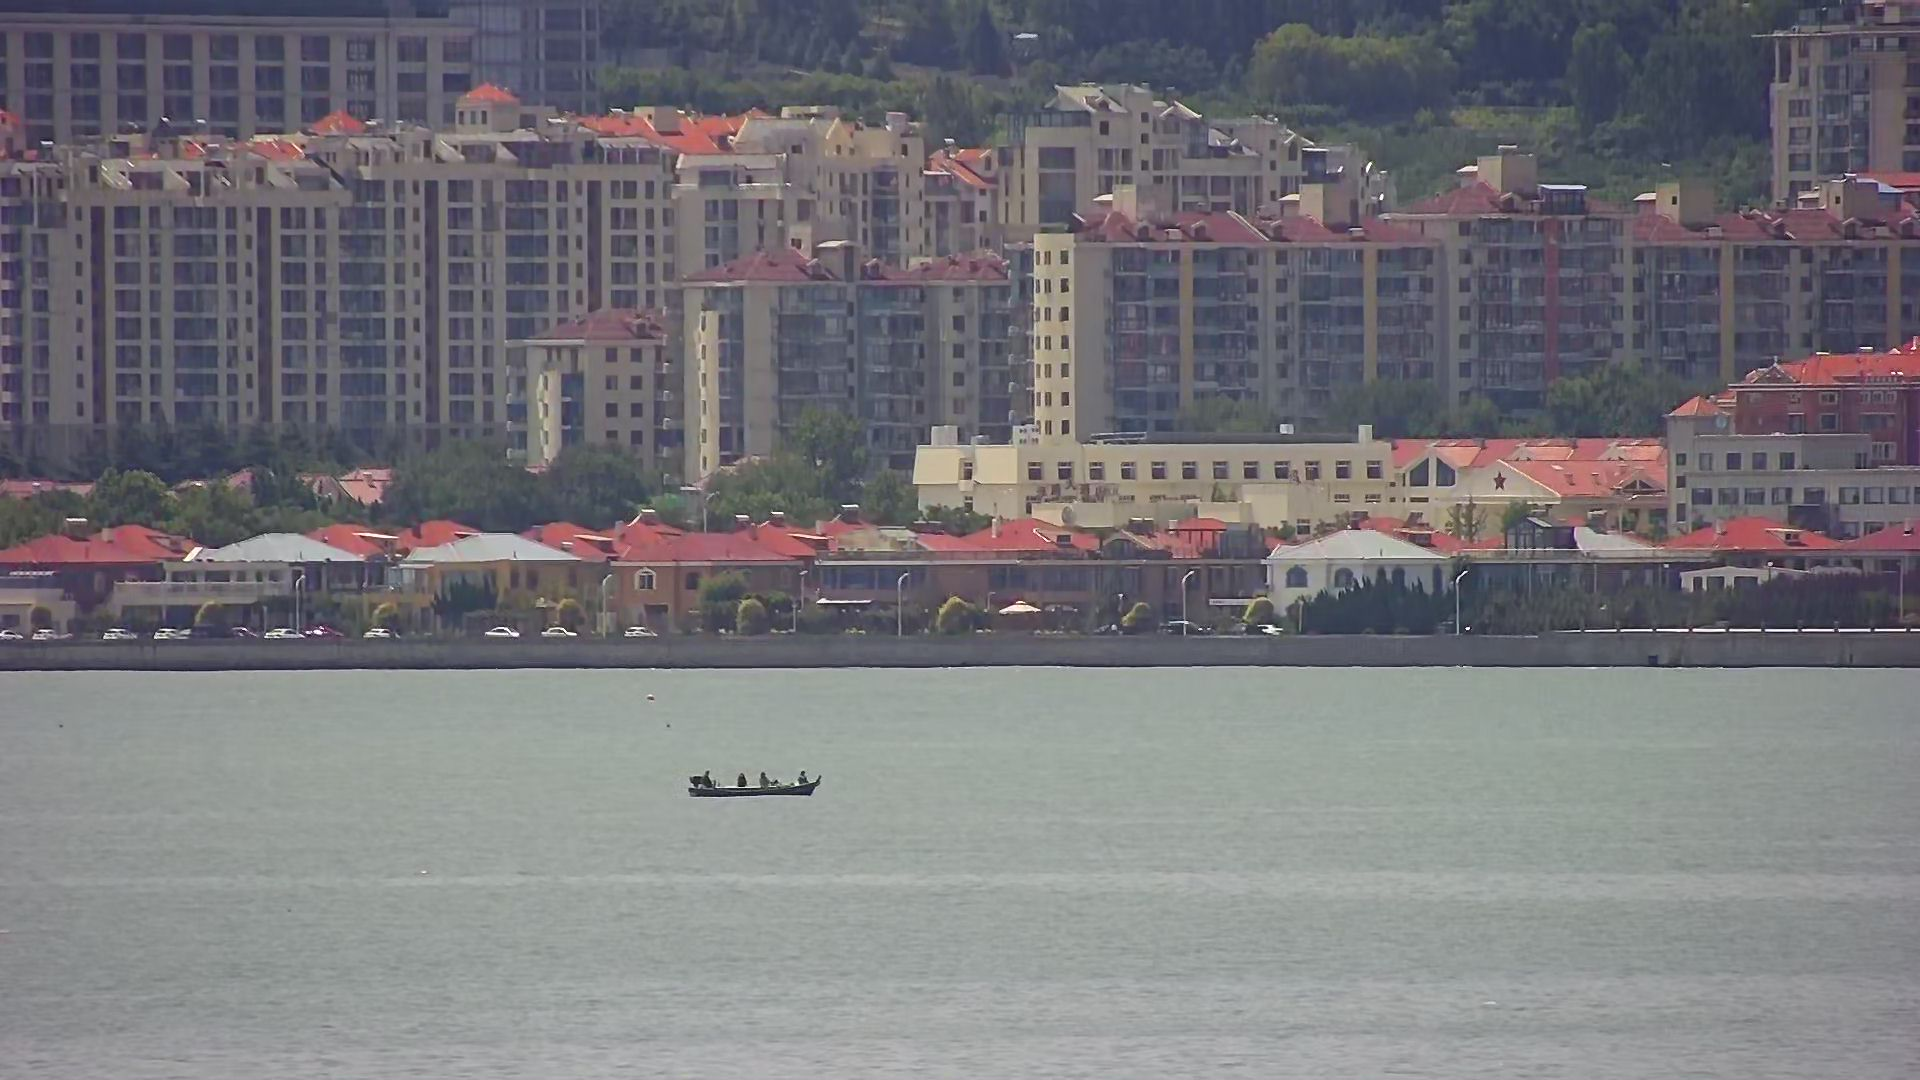boat: (684, 764, 825, 804)
